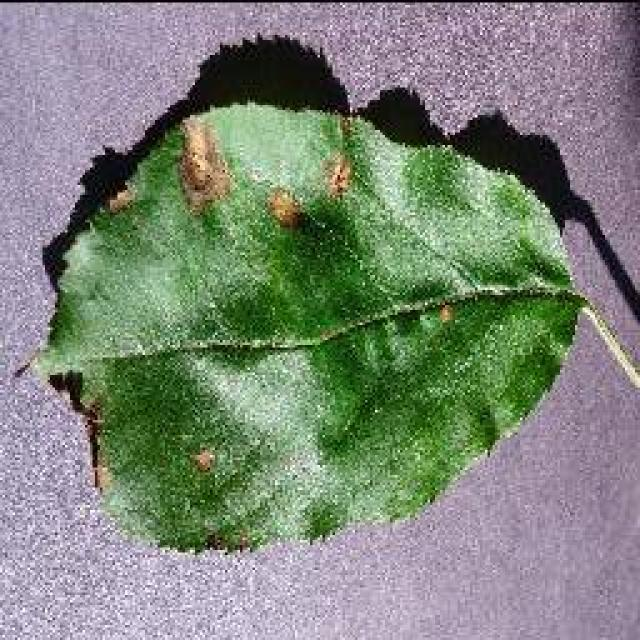apple healthy: (18, 30, 638, 555)
